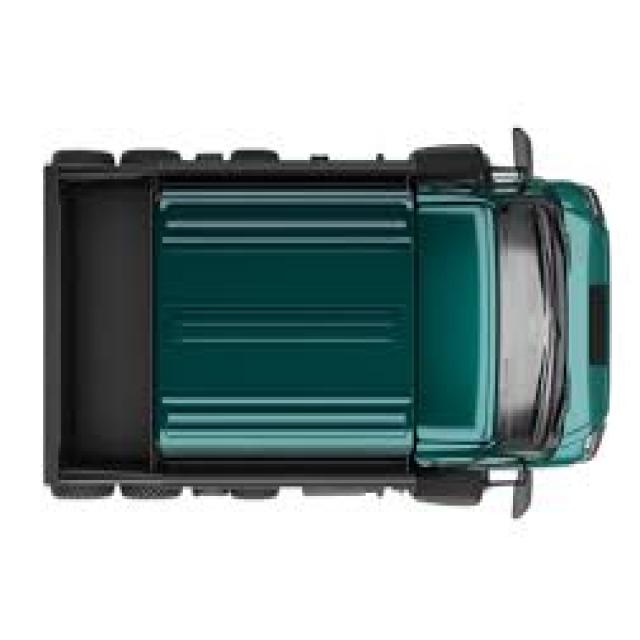truck: (42, 154, 611, 495)
